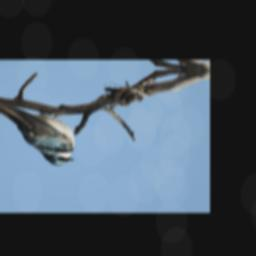Swallow: (0, 100, 79, 167)
